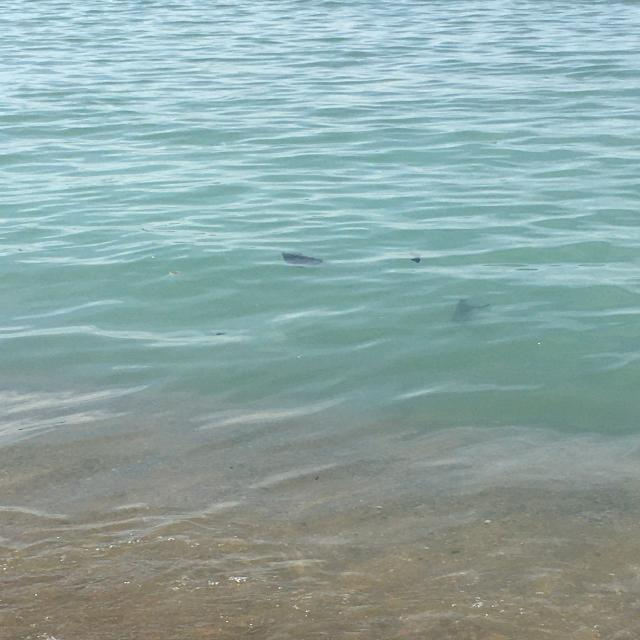Plastic: (398, 250, 423, 264)
Plastic bag: (450, 297, 492, 327), (279, 249, 327, 270)
